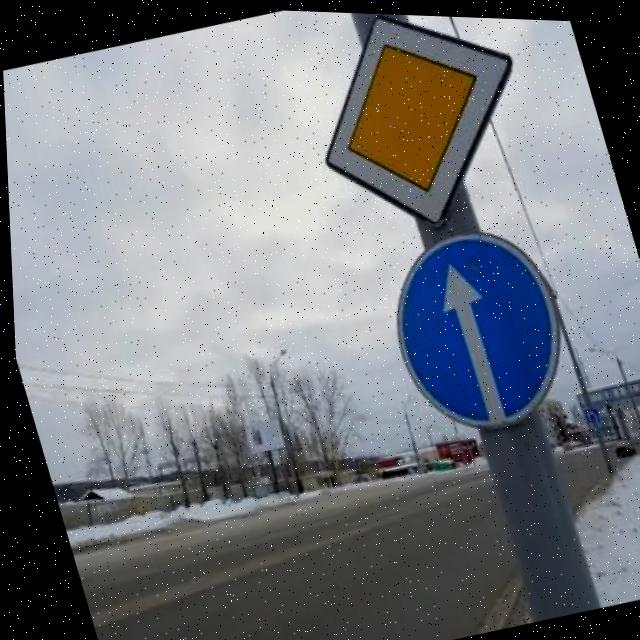signs: (283, 8, 554, 249)
